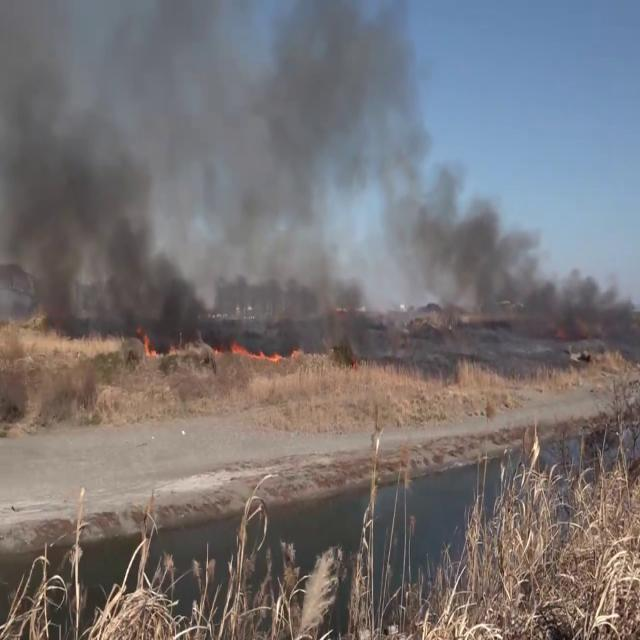Smoke: (1, 0, 428, 343), (408, 173, 640, 340)
